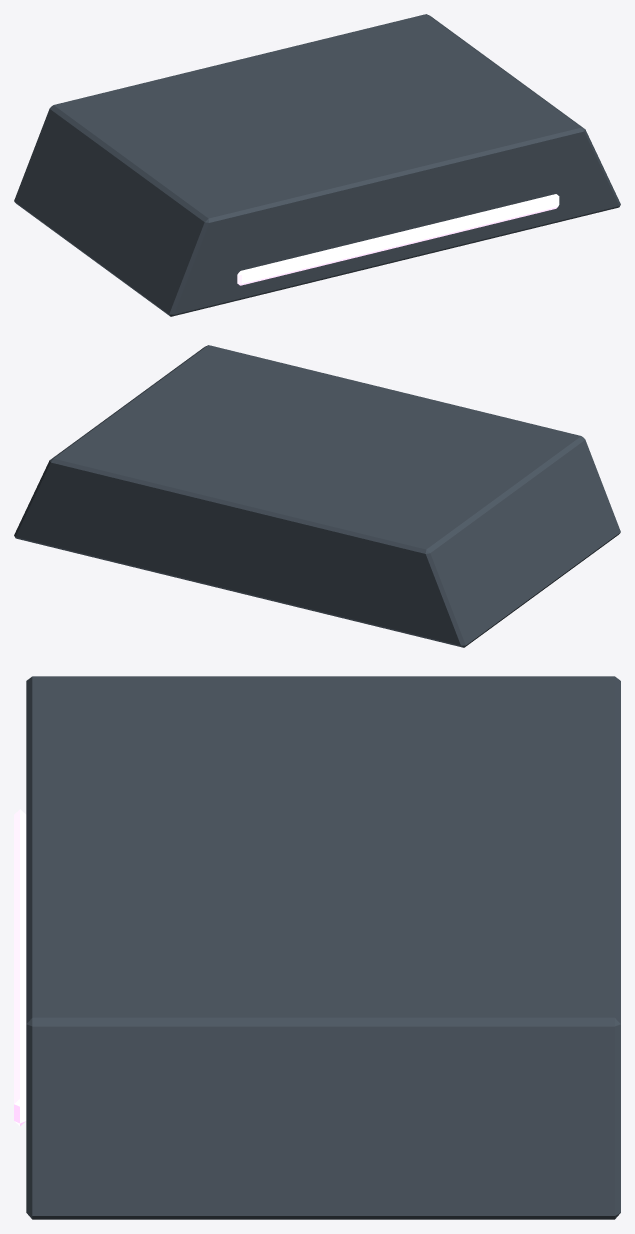
File: Plate3D_Base.gltf
3 renders of one model, top to bottom at view 1: azimuth 30°, elevation 25°; view 2: azimuth 150°, elevation 25°; view 3: azimuth 270°, elevation 25°, orthographic. The views are drawn at different scales.
Visible parts, largest first — view 1: Plate3D_Base_baked; view 2: Plate3D_Base_baked; view 3: Plate3D_Base_baked.
Boxes of the visible parts, x1=… form: Plate3D_Base_baked: x1=14, y1=14, x2=620, y2=316; Plate3D_Base_baked: x1=14, y1=345, x2=620, y2=647; Plate3D_Base_baked: x1=14, y1=676, x2=620, y2=1219.
Size of the model in its own units: 0.9551 by 0.18 by 0.592.
